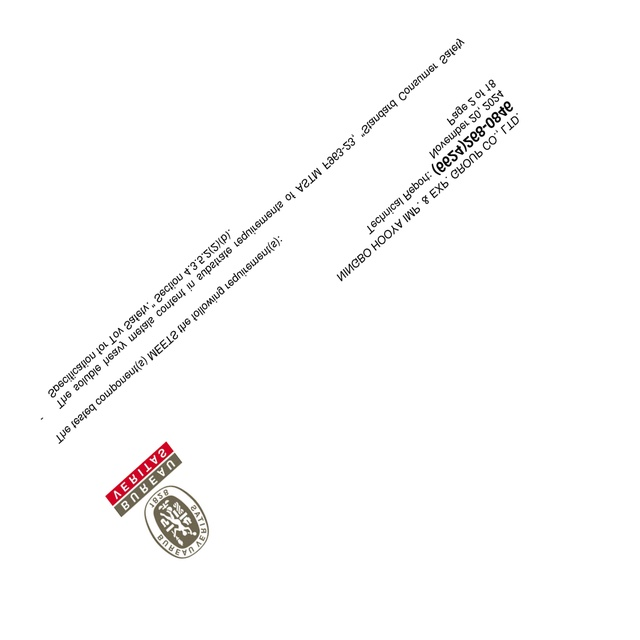bureau_veritas: (103, 440, 213, 562)
